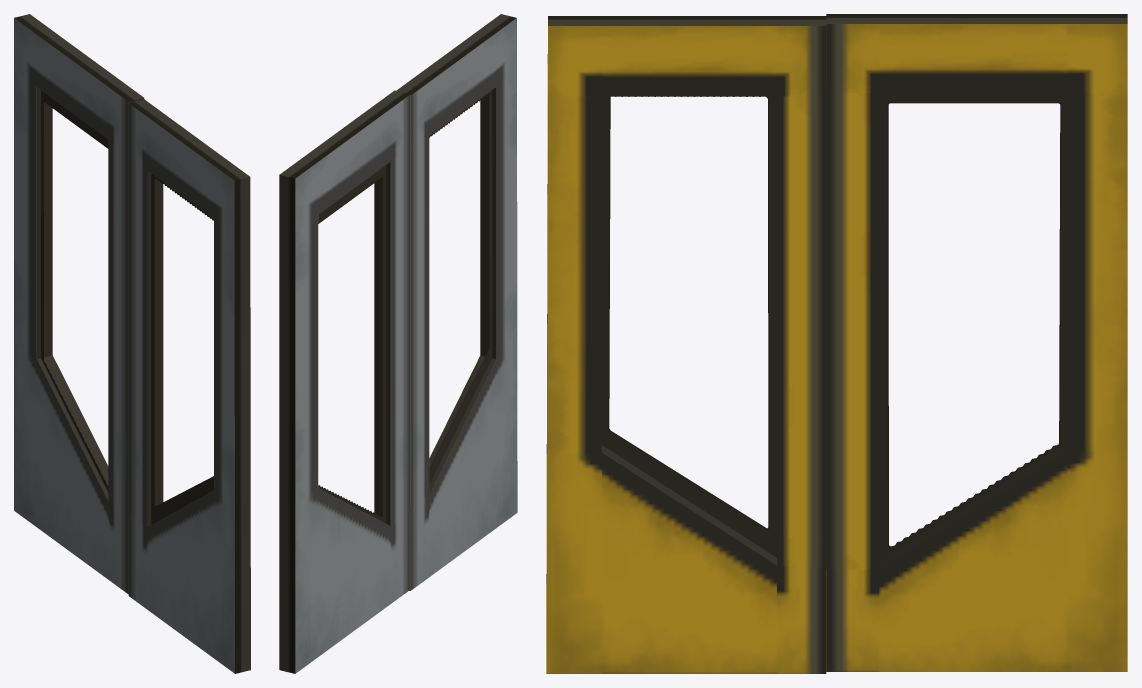
File: Doors1.2New.fbx
3 renders of one model, left to right at view 1: azimuth 30°, elevation 25°; view 2: azimuth 150°, elevation 25°; view 3: azimuth 270°, elevation 25°, orthographic. The views are drawn at different scales.
Parts seen in each view (by area): view 1: DoorLeft, DoorRight; view 2: DoorRight, DoorLeft; view 3: DoorRight, DoorLeft.
Boxes of the visible parts, box(x1,y1,x2,y2) form: DoorLeft: box(128, 99, 250, 673); DoorRight: box(14, 14, 144, 594); DoorRight: box(279, 90, 410, 673); DoorLeft: box(396, 14, 517, 590); DoorRight: box(826, 14, 1127, 671); DoorLeft: box(546, 16, 826, 673).
Bounding box in the file's own units: 7.93 × 237 × 192.
